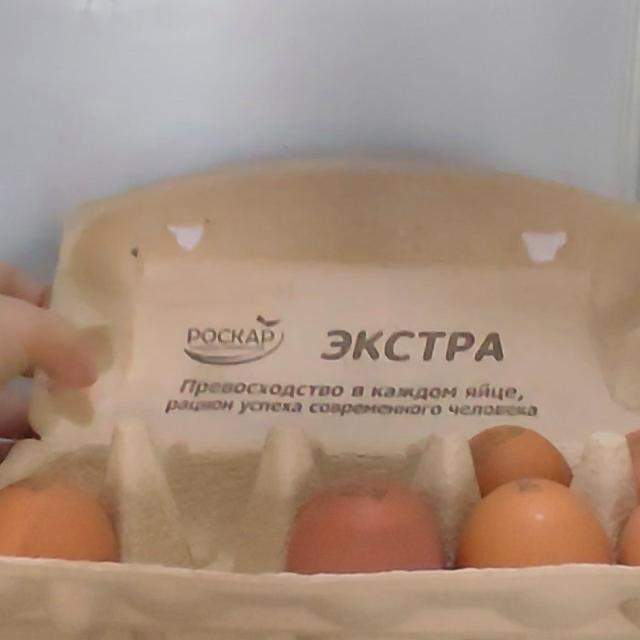egg: (0, 137, 640, 640)
